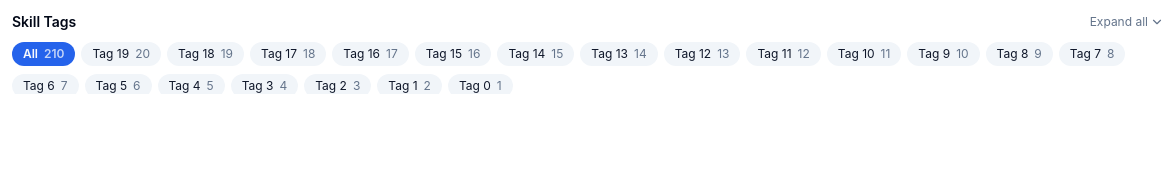
TagFilterStrip › collapse and expand › shows Expand all on overflow and toggles to Collapse
Click the button "Expand all".
click(1127, 22)  # box [1090,14,1164,30]
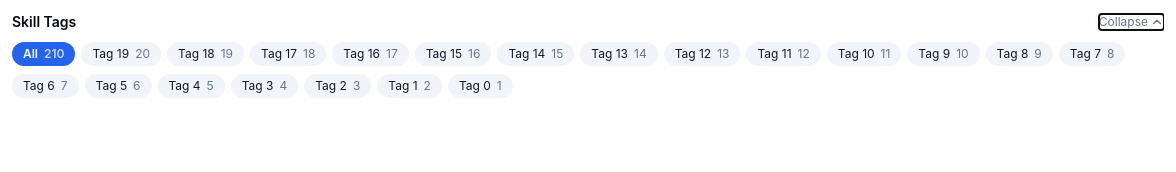
Check: the button "Collapse" is shown, box [1099,14,1164,30]
